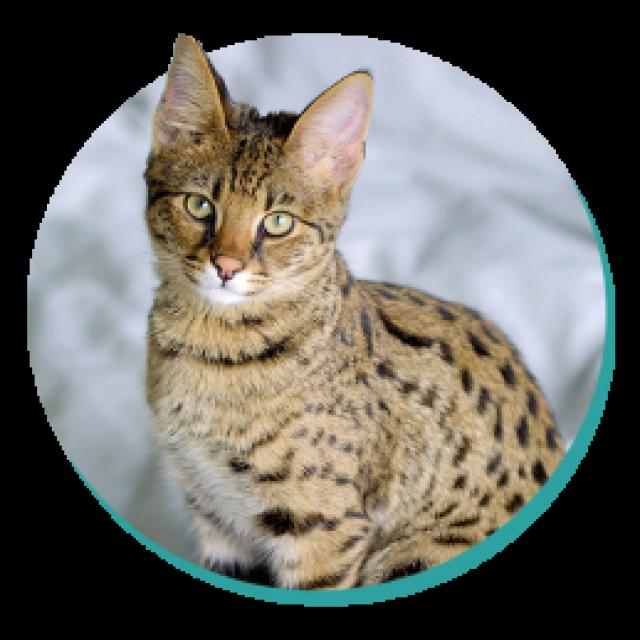Savannah: (142, 29, 571, 593)
